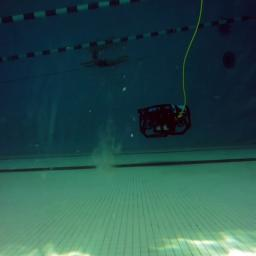Side: (136, 102, 192, 140)
